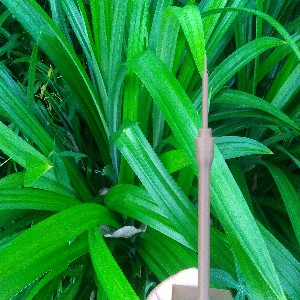solder: (193, 50, 216, 300)
